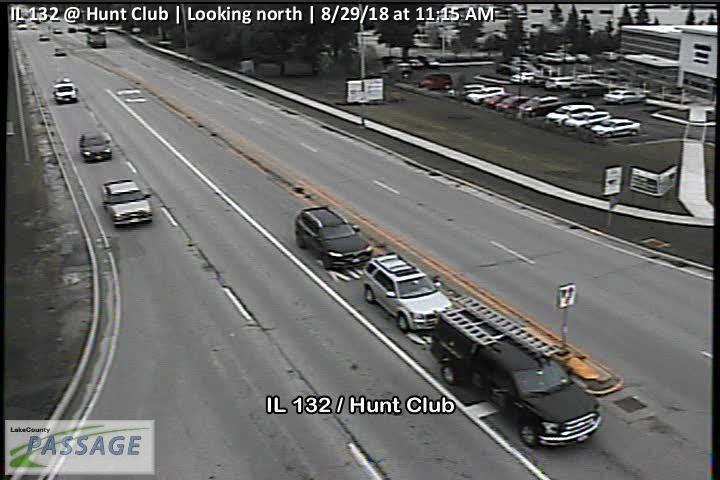SUV: (431, 306, 601, 448), (364, 252, 456, 334), (296, 207, 373, 270), (545, 103, 596, 125), (519, 96, 564, 114), (467, 86, 505, 104), (52, 78, 78, 104), (416, 73, 452, 91), (569, 81, 609, 97), (545, 76, 581, 91), (536, 52, 563, 63), (88, 32, 106, 48)
Sedan: (102, 177, 153, 226), (588, 117, 640, 139), (80, 129, 113, 163), (564, 111, 611, 130), (602, 89, 646, 104), (495, 96, 532, 111), (448, 84, 484, 98), (483, 93, 515, 107), (510, 72, 541, 83), (531, 75, 554, 87), (54, 47, 67, 56), (39, 33, 50, 41)
